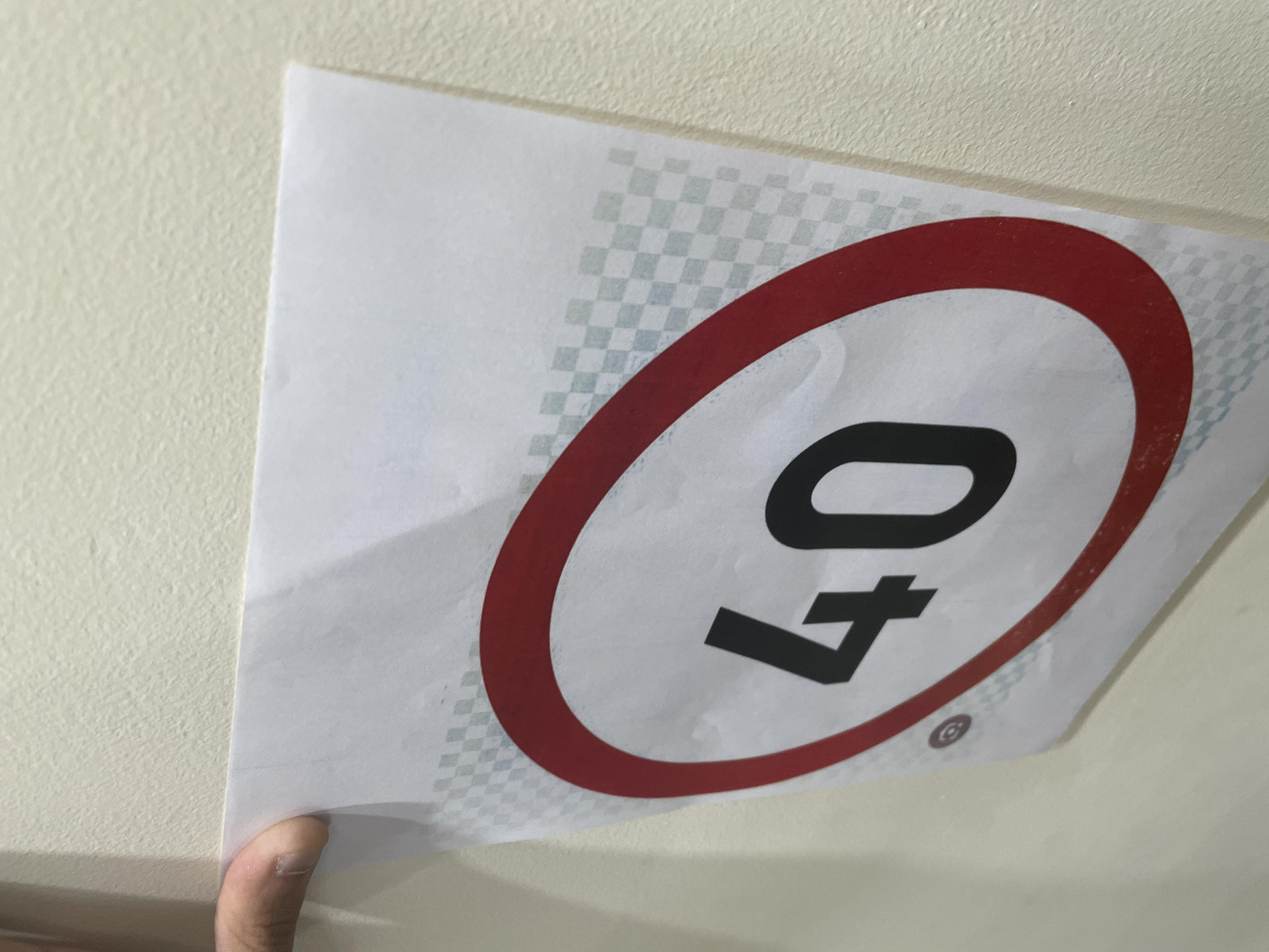40-Speed: (194, 333, 992, 897)
